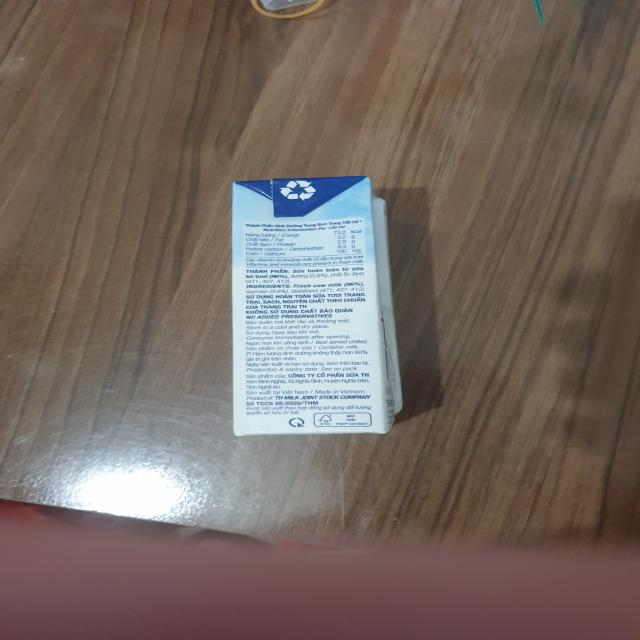TH: (230, 175, 392, 438)
